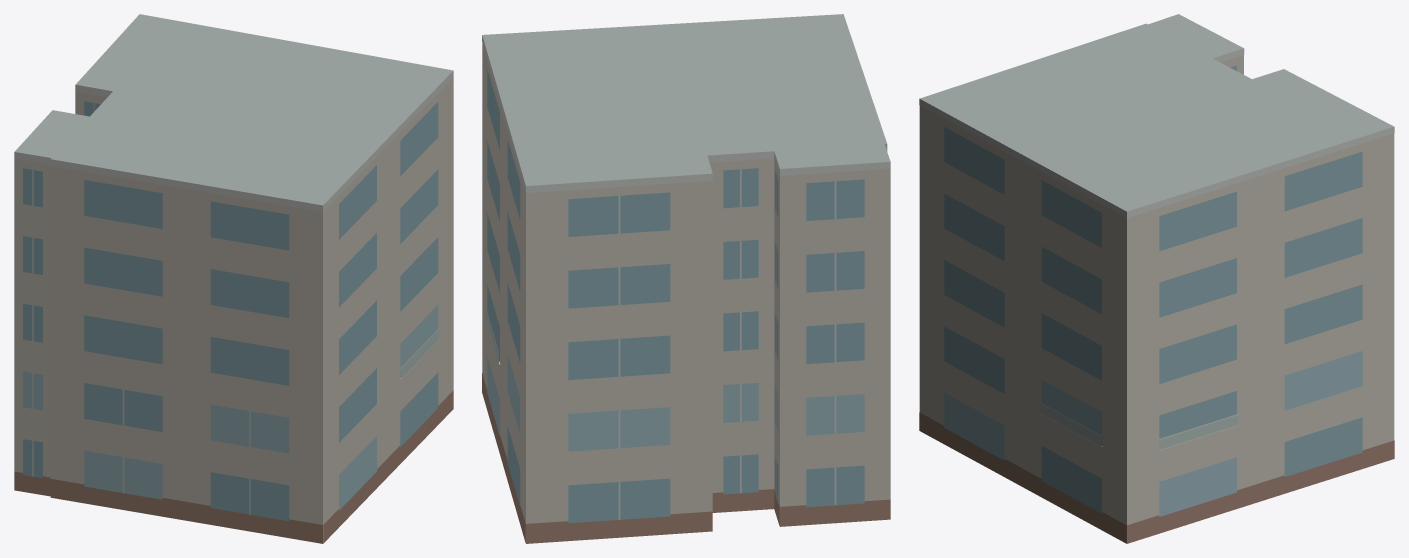
The model's file is survey-upis-32665853.glb.
3 renders of one model, left to right at view 1: azimuth 30°, elevation 25°; view 2: azimuth 150°, elevation 25°; view 3: azimuth 270°, elevation 25°, orthographic. The views are drawn at different scales.
Visible parts, largest first — view 1: survey-upis-32665853.tmp; view 2: survey-upis-32665853.tmp; view 3: survey-upis-32665853.tmp.
Part boxes in pixels (x1,y1,x2,y2): survey-upis-32665853.tmp: (14, 14, 453, 543); survey-upis-32665853.tmp: (482, 14, 890, 543); survey-upis-32665853.tmp: (919, 14, 1394, 543).
Bounding box in the file's own units: 15.84 × 12.4 × 16.08.
